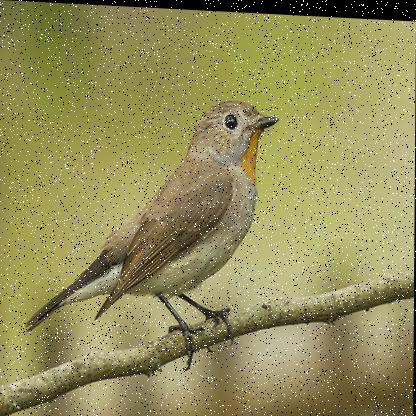Burung: (25, 87, 281, 373)
